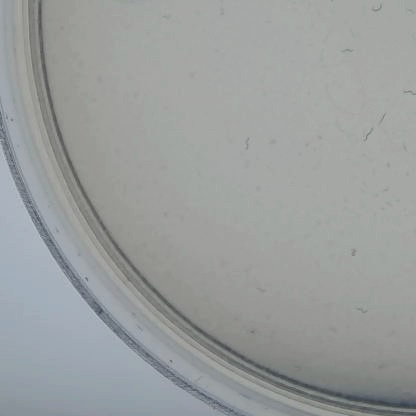worm: (344, 242, 363, 265), (247, 280, 269, 299), (367, 0, 390, 17), (338, 45, 360, 61), (399, 88, 416, 107), (372, 110, 395, 124), (243, 130, 255, 156), (361, 126, 376, 145), (350, 304, 371, 317), (395, 135, 408, 152), (407, 0, 416, 16)
